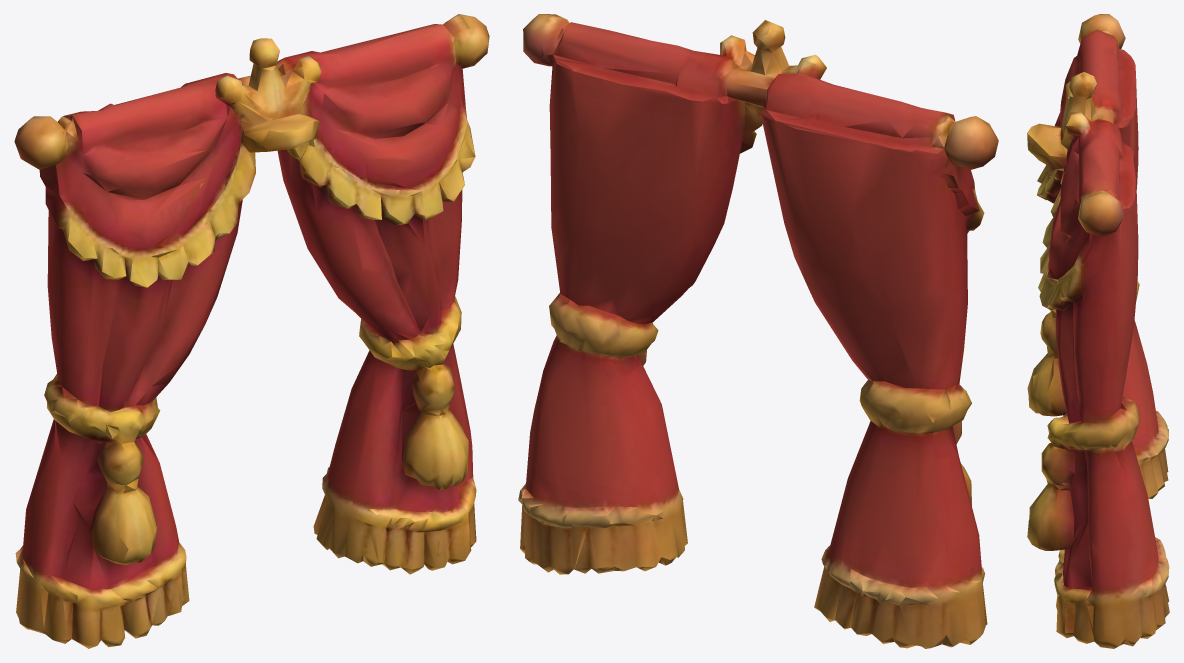
Rendered from curtain18.glb.
3 renders of one model, left to right at view 1: azimuth 30°, elevation 25°; view 2: azimuth 150°, elevation 25°; view 3: azimuth 270°, elevation 25°, orthographic. The views are drawn at different scales.
Size of the model in its own units: 0.229 by 0.2662 by 0.0705.
Materials: 1 (1 with a texture image).
